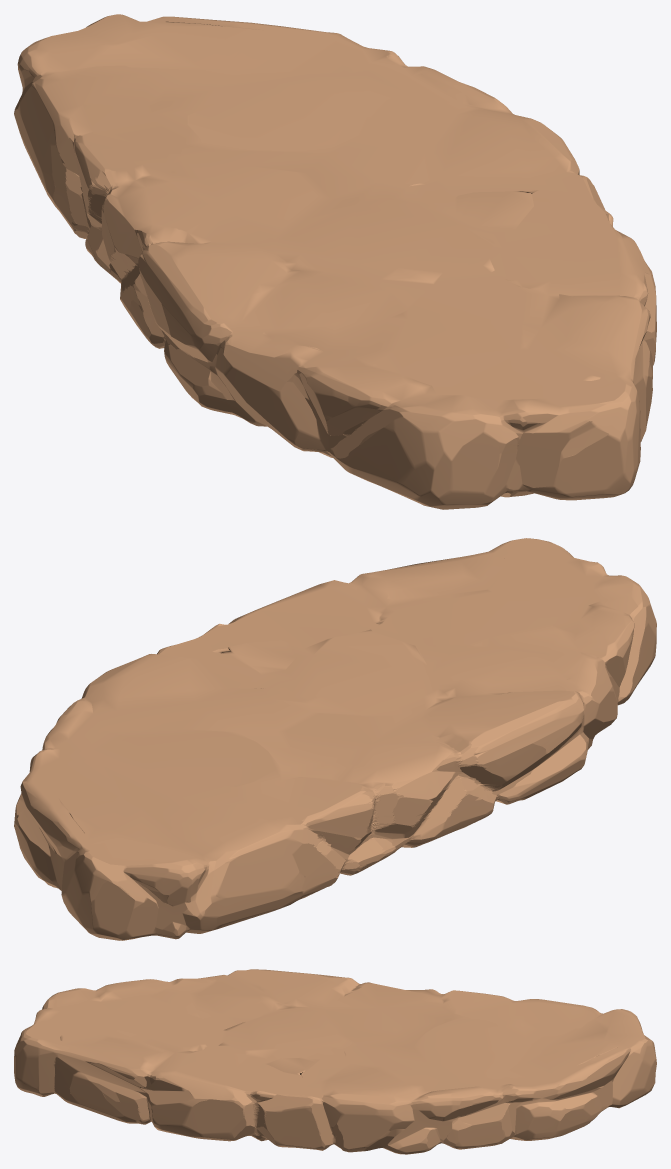
3 renders of one model, top to bottom at view 1: azimuth 30°, elevation 25°; view 2: azimuth 150°, elevation 25°; view 3: azimuth 270°, elevation 25°, orthographic. The views are drawn at different scales.
Visible parts, largest first — view 1: Mesh_42_LOD0; view 2: Mesh_42_LOD0; view 3: Mesh_42_LOD0.
Part boxes in pixels (x1,y1,x2,y2): Mesh_42_LOD0: (14,14,656,509); Mesh_42_LOD0: (14,538,656,940); Mesh_42_LOD0: (14,969,656,1154).
Size of what is drawn, in the model's own units: 3013 by 644 by 5948.
